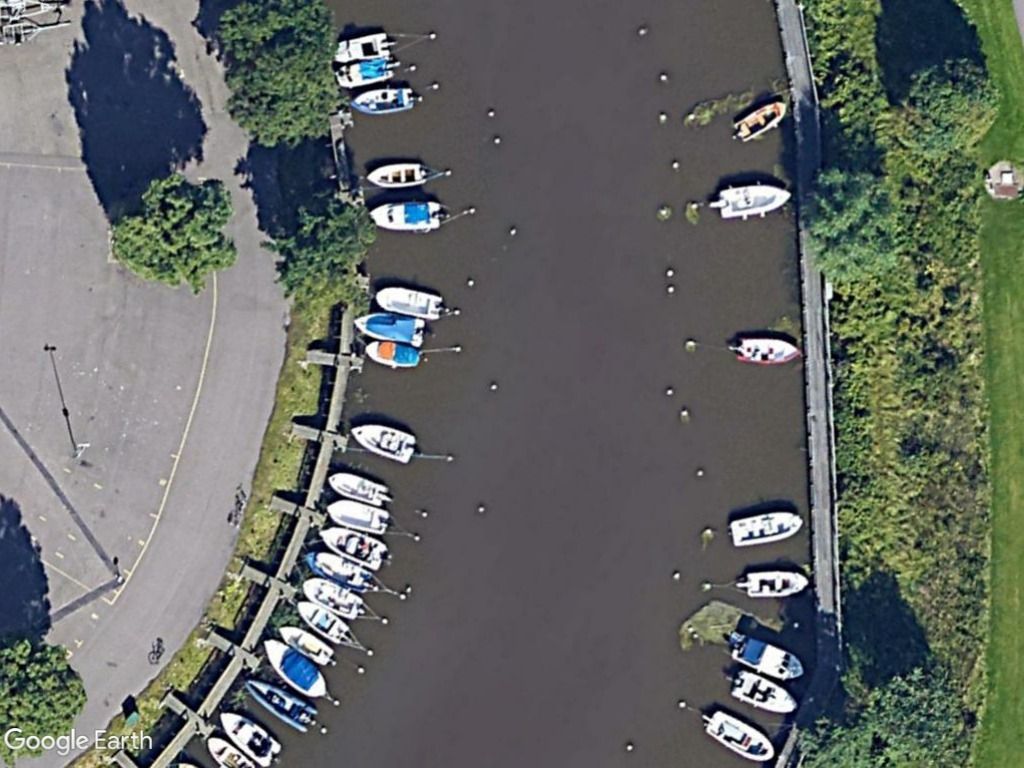boat: (701, 701, 779, 766), (241, 674, 322, 734), (260, 635, 330, 700), (729, 629, 809, 684), (313, 521, 393, 574), (218, 709, 289, 768), (725, 504, 807, 553), (300, 546, 378, 595), (727, 663, 800, 713), (349, 307, 429, 350), (346, 420, 420, 466), (364, 195, 446, 236), (714, 179, 792, 222), (288, 596, 356, 645), (300, 571, 366, 620), (272, 618, 337, 667), (372, 285, 450, 324), (323, 494, 395, 536), (730, 96, 788, 145), (323, 469, 392, 508), (347, 82, 421, 118), (736, 566, 809, 602), (732, 332, 804, 368), (362, 157, 428, 192), (359, 338, 422, 371)
